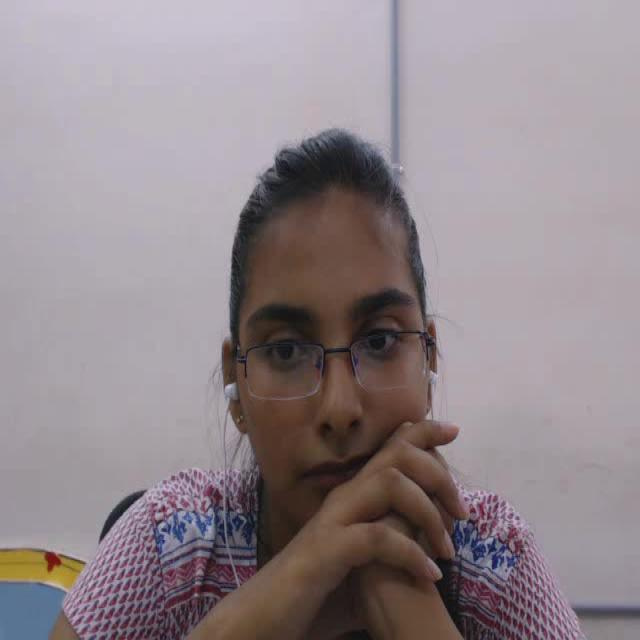Bored: (193, 121, 484, 569)
